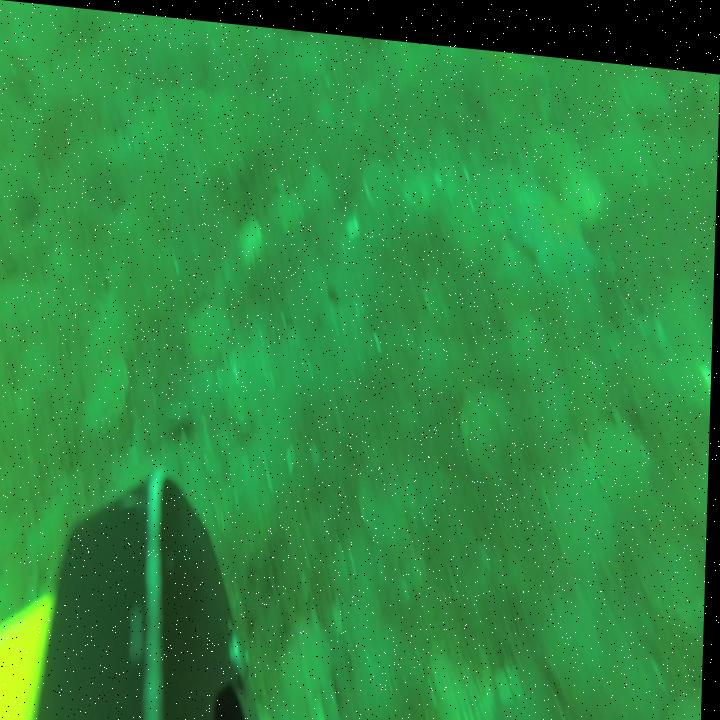scallop: (422, 617, 505, 720), (459, 372, 526, 473), (587, 406, 657, 496), (280, 608, 336, 712), (361, 441, 420, 539), (85, 345, 133, 440), (187, 292, 235, 359), (561, 151, 614, 211), (669, 660, 706, 720), (270, 178, 306, 236), (303, 152, 336, 209), (237, 211, 268, 264)
starfish: (508, 170, 600, 271)
